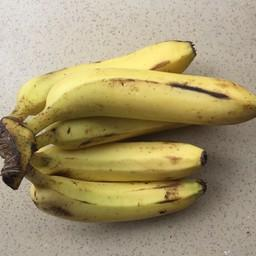Good_banana: (16, 65, 256, 122), (28, 167, 208, 226), (32, 141, 205, 183)
